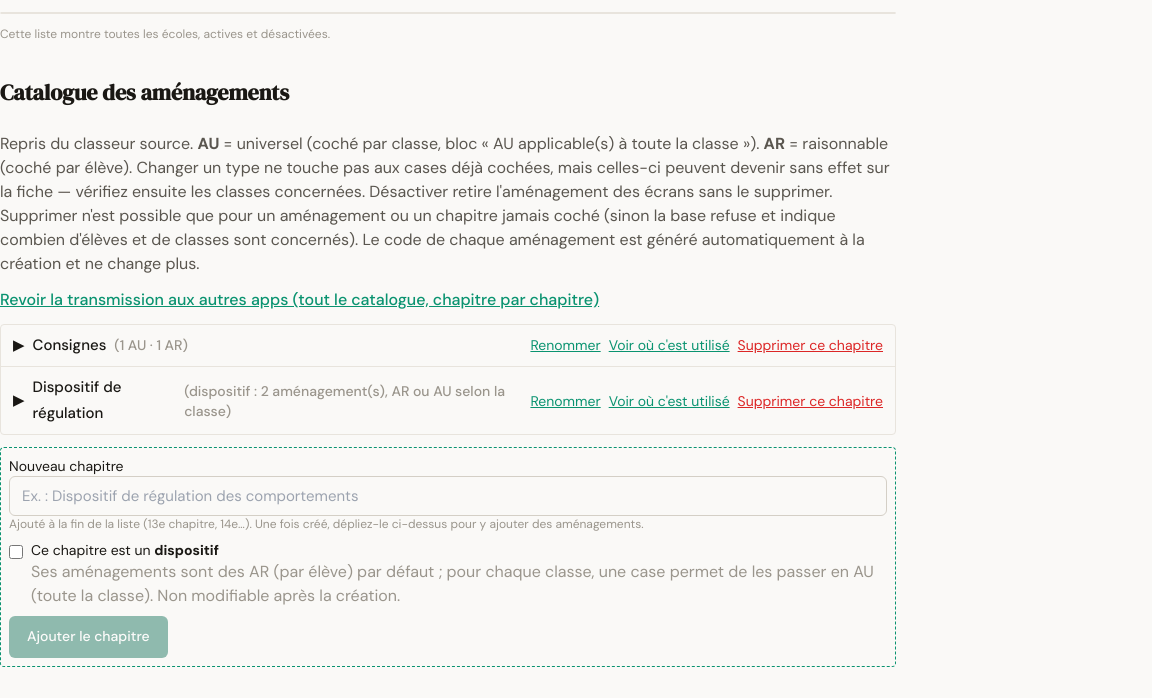
Administration : catalogue et dispositifs › déjà coché : pas de confirmation, la fenêtre explique le refus et montre qui contacter
(page scrolled)
Click the button "▶ Consignes (1 AU · 1 AR)" at (69, 345), box left=1, top=325, right=522, bottom=366
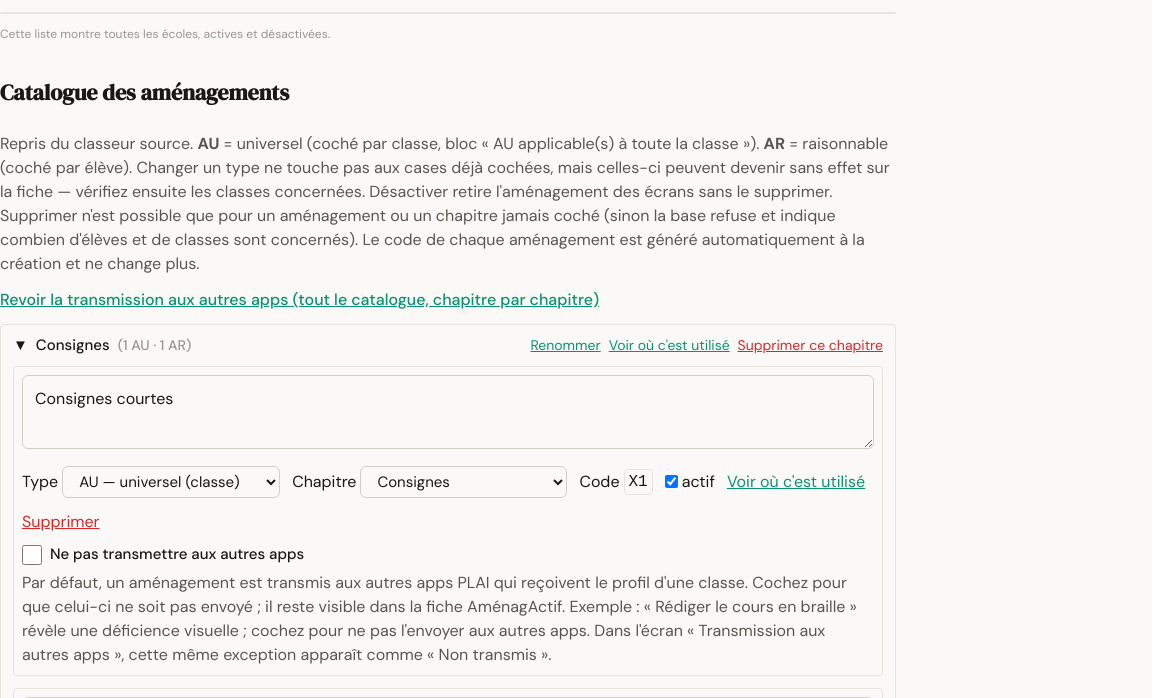
Click the button "Supprimer" at (61, 522), box left=22, top=510, right=100, bottom=534
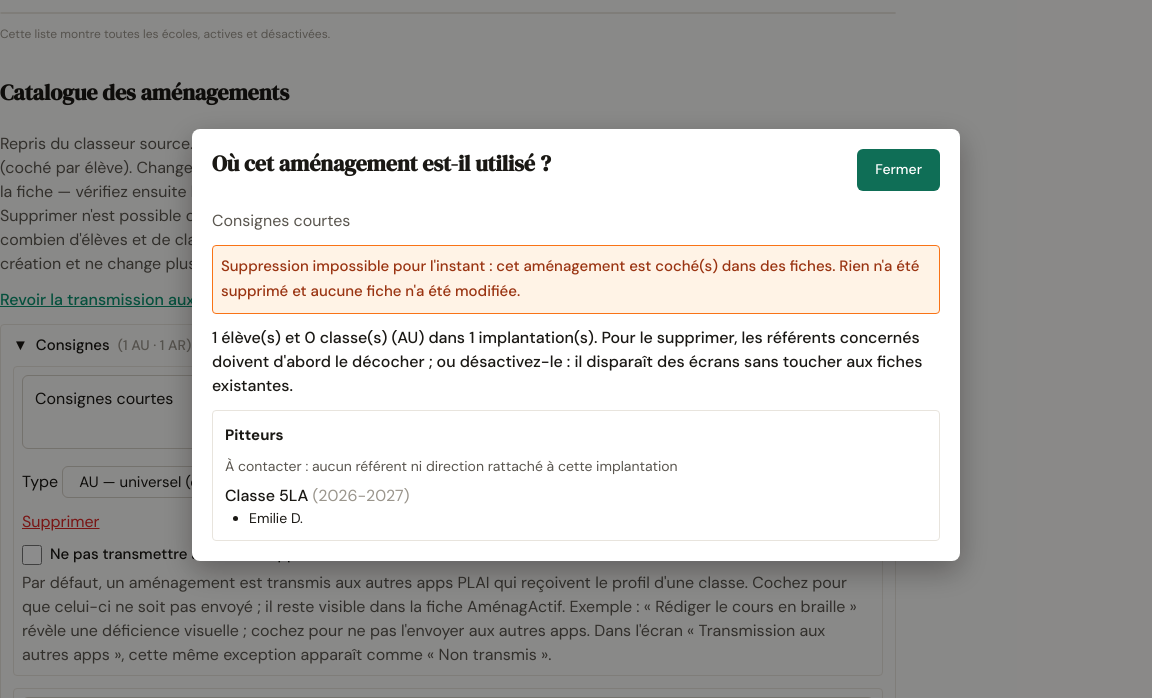
Check: the text "Suppression impossible pour l'instant" is shown, box left=221, top=256, right=496, bottom=276
Check: the list item "Emilie D." is shown, box left=249, top=509, right=303, bottom=527
